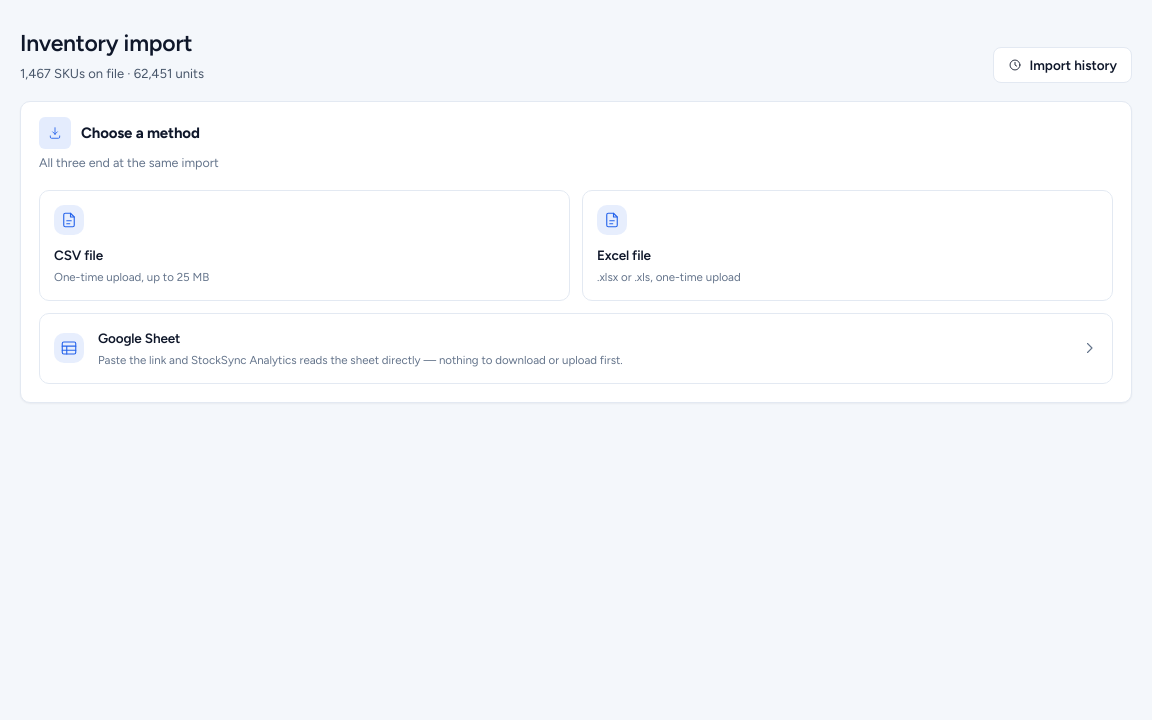
Test: choosing a method › CSV file asks for a SKU and nothing else
The image size is (1152, 720).
Expected: the heading "Choose a method" is shown, [81,122,200,144]
Step 1. Click the button "CSV file One-time upload, up to 25 MB" → {"x": 78, "y": 255}, box [39,190,570,301]
(page scrolled)
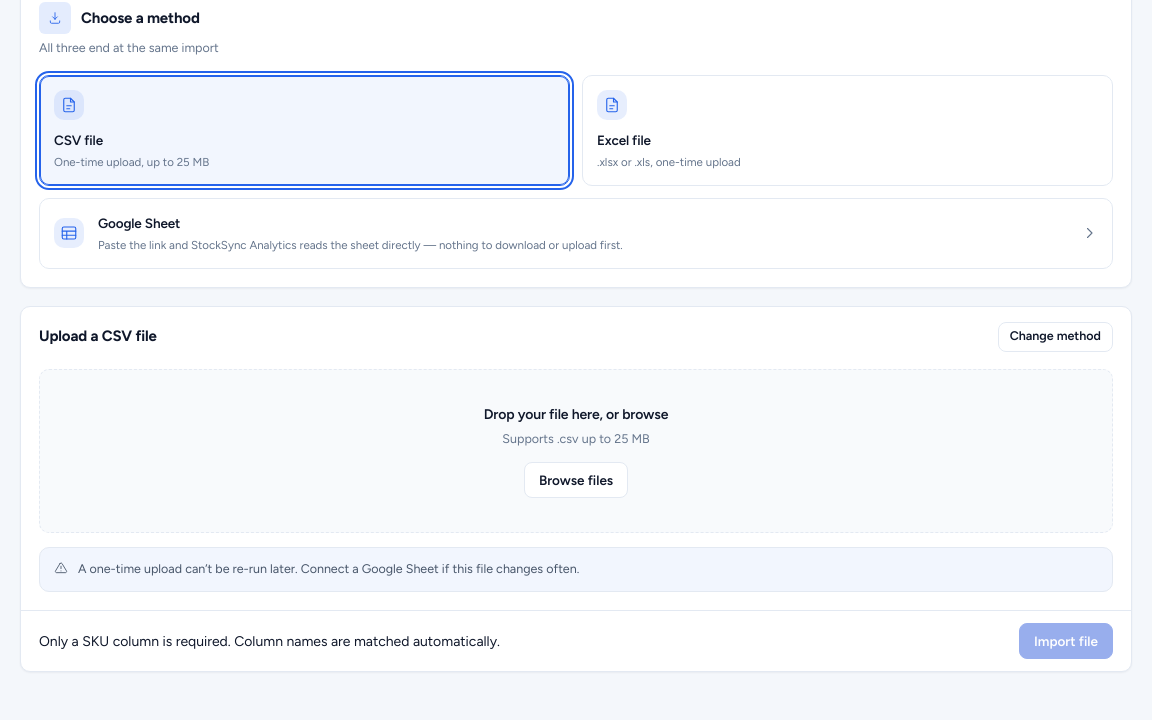
Now the text "Only a SKU column is required" is shown, box [39,633,500,650]
